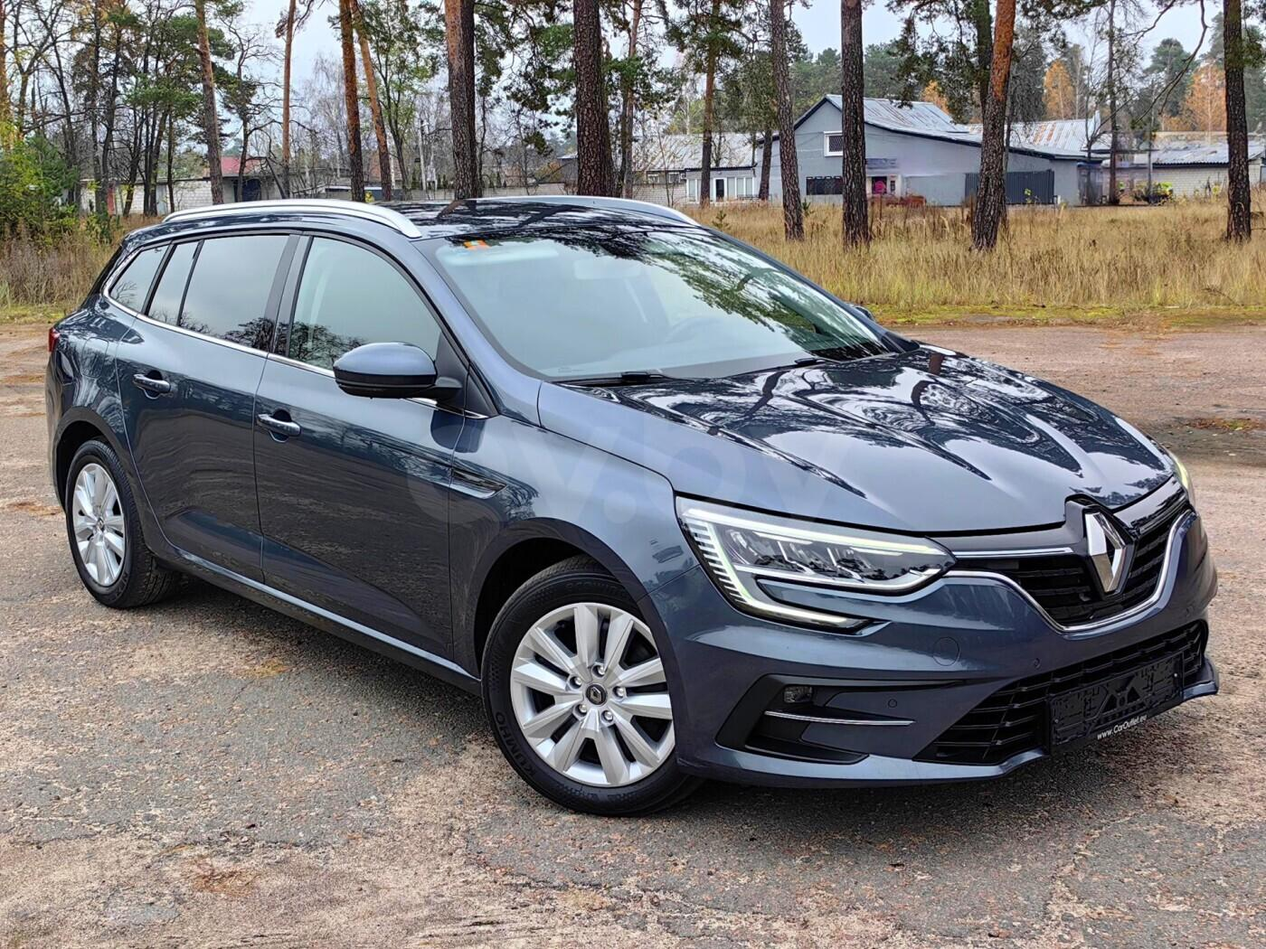Megane_2020: (36, 187, 1216, 826)
